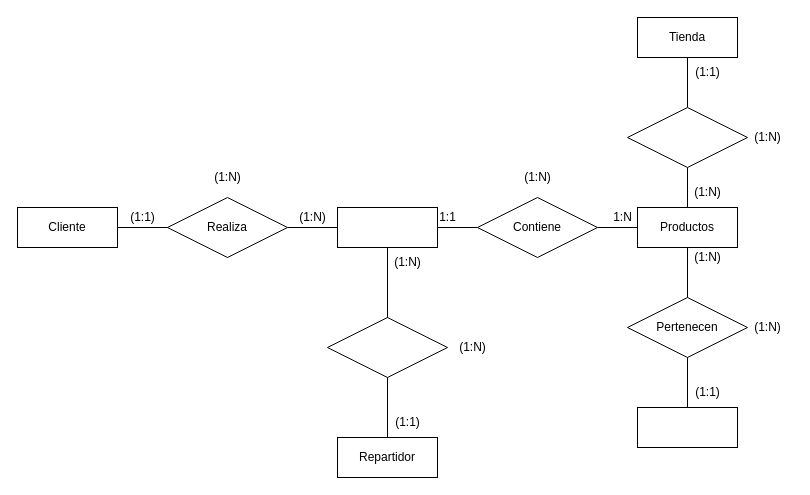
The diagram is 810 pixels wide and 495 high, and some of its shapes have lost their labels. The shapes that lost their labels are listed below. From the top down, each one's box as (x1, y1, x2, y2) in pixels, then its label:
(626, 106, 748, 168): Vende
(336, 206, 438, 248): Pedido
(326, 316, 448, 378): Lleva
(636, 406, 738, 448): Categoria
